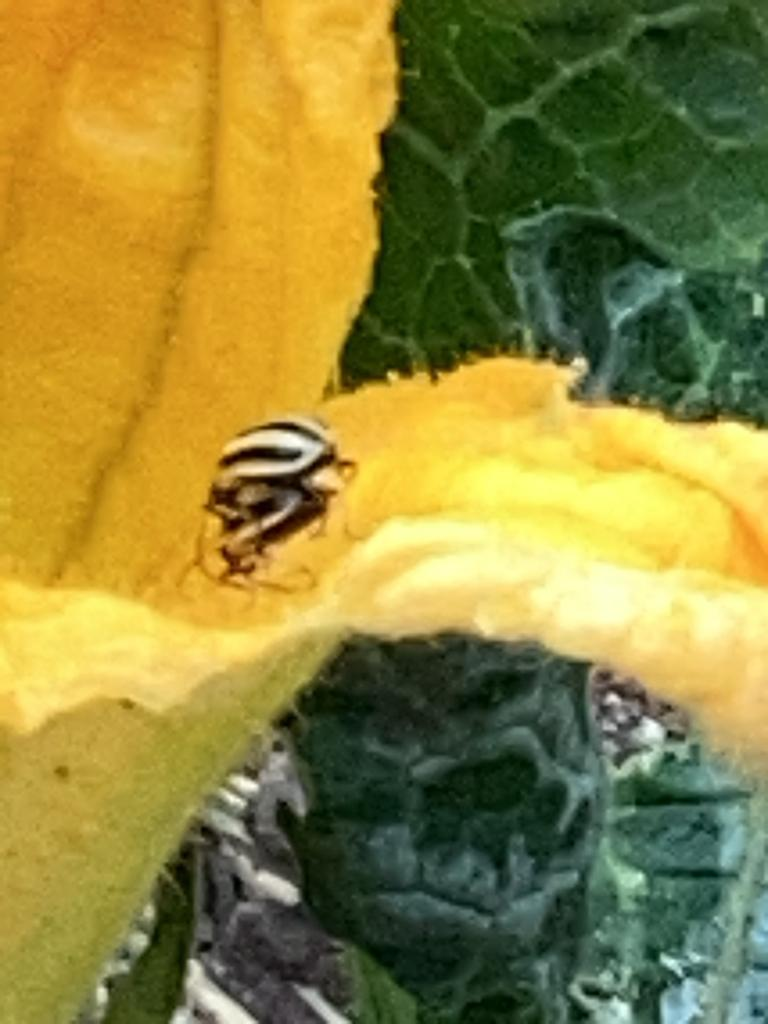potato_beetle: (167, 377, 399, 613)
